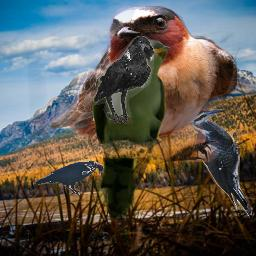Crow: (94, 36, 154, 124), (33, 160, 104, 197)
Cuckoo: (92, 39, 170, 220)
Swallow: (50, 6, 237, 162)
Woodpecker: (178, 105, 252, 219)
